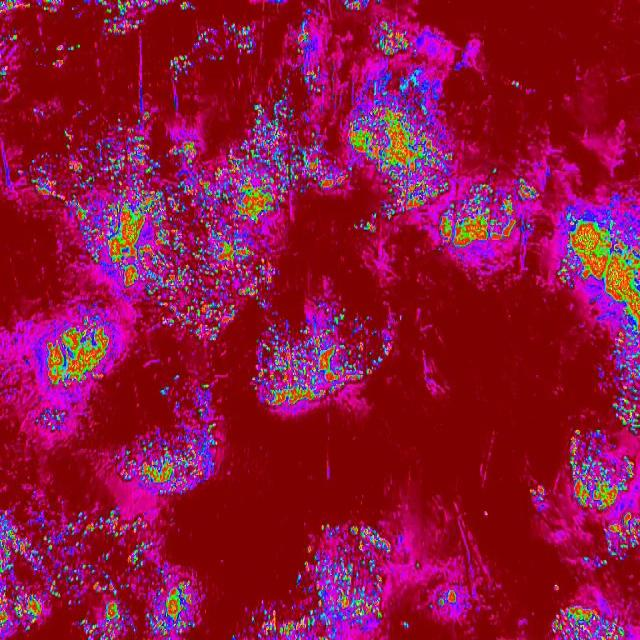fire: (67, 99, 286, 333), (252, 292, 406, 418), (0, 513, 153, 632), (342, 76, 456, 214), (291, 522, 402, 640), (120, 394, 225, 494), (567, 428, 640, 567), (561, 206, 640, 329), (26, 306, 117, 396), (440, 180, 538, 250), (286, 129, 342, 199), (603, 236, 640, 328), (547, 604, 640, 640), (153, 574, 203, 637), (240, 606, 290, 640)
